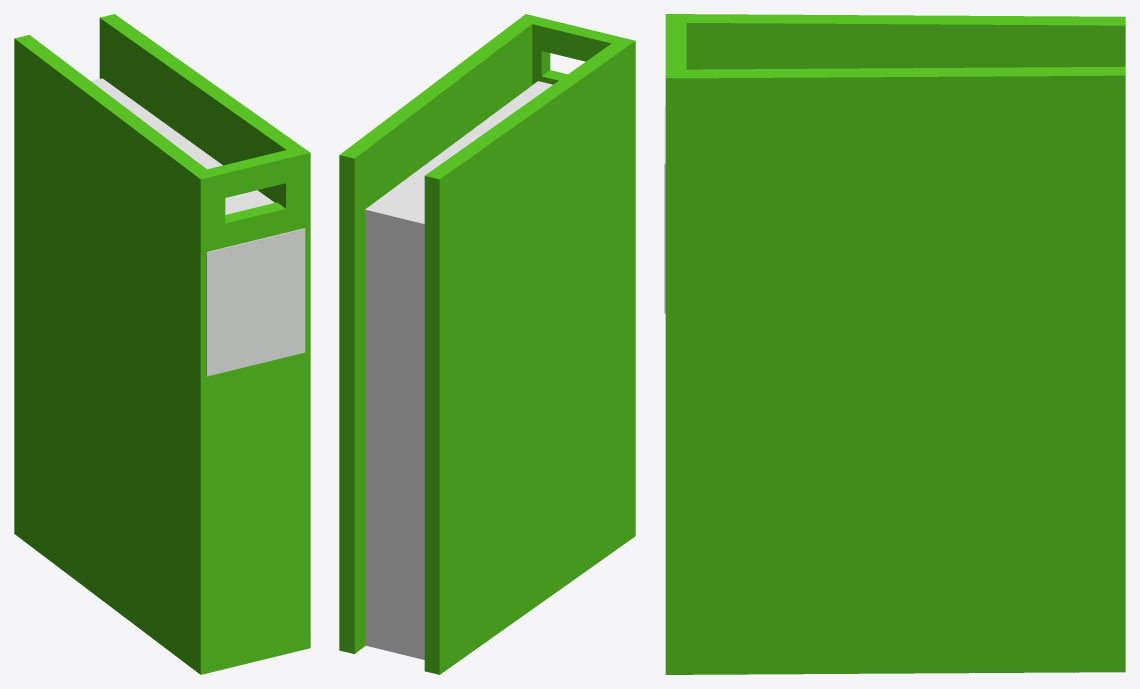
File: Folder_1c.fbx
3 views of the same model, side by side, from view 1: azimuth 30°, elevation 25°; view 2: azimuth 150°, elevation 25°; view 3: azimuth 270°, elevation 25° (orthographic). The views are drawn at different scales.
Parts seen in each view (by area): view 1: Folder_1c; view 2: Folder_1c; view 3: Folder_1c.
Boxes of the visible parts, x1,y1,x2,y2 form: Folder_1c: (14,14,310,674); Folder_1c: (339,14,635,674); Folder_1c: (664,14,1125,674).
Bounding box in the file's own units: 0.0835 × 0.3602 × 0.2525.
